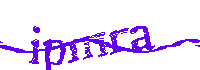a: (129, 24, 154, 53)
i: (29, 25, 41, 65)
m: (68, 31, 107, 61)
p: (44, 36, 66, 70)
r: (108, 26, 129, 57)
